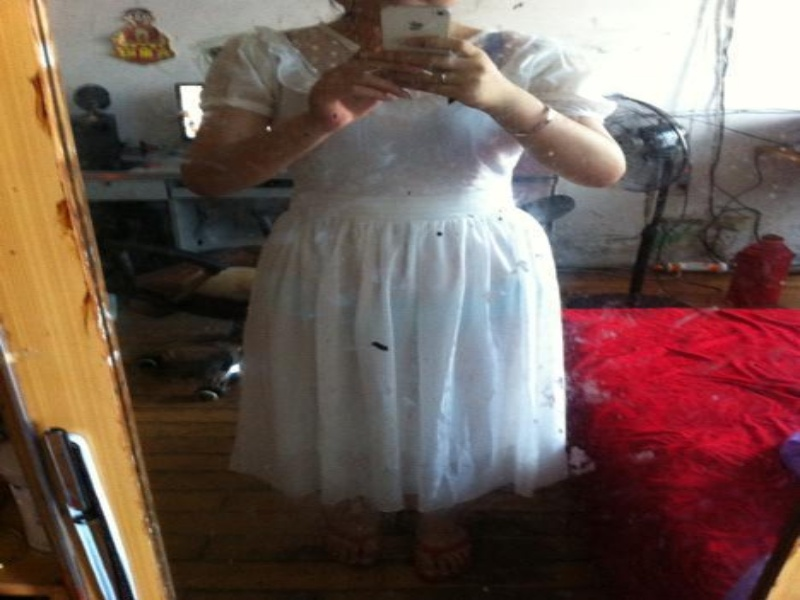short_sleeved_dress: (186, 13, 619, 523)
